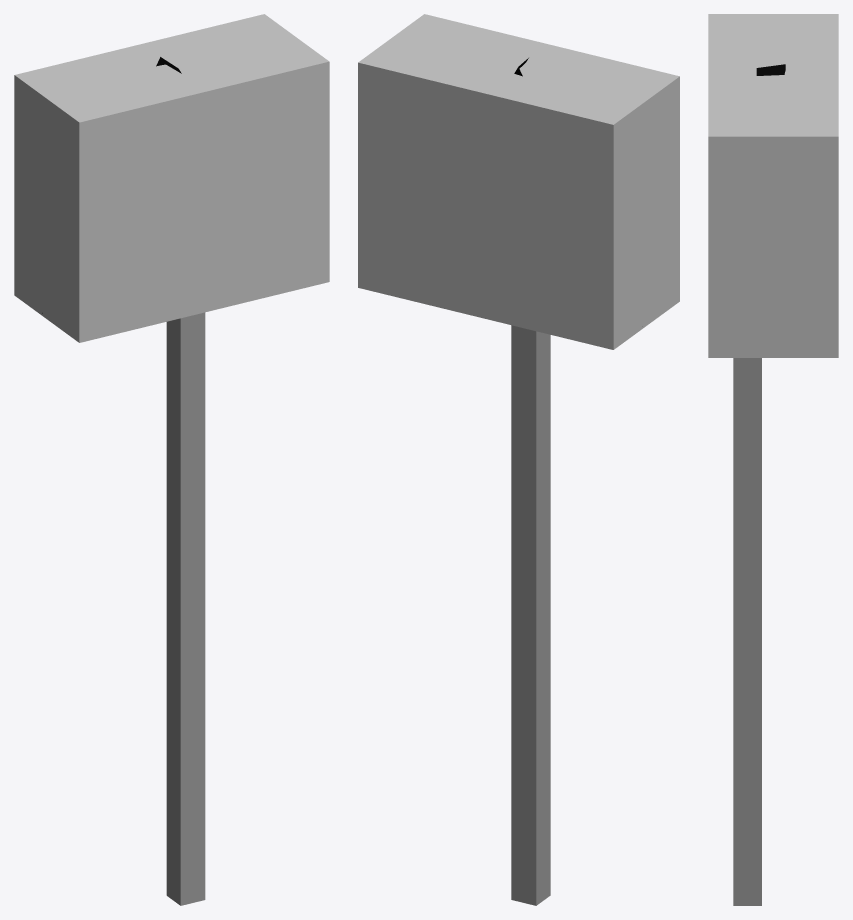
File: triangleSign.obj
The picture shows the model from 3 angles, left to right: view 1: azimuth 30°, elevation 25°; view 2: azimuth 150°, elevation 25°; view 3: azimuth 270°, elevation 25°; orthographic projection. The views are drawn at different scales.
Parts seen in each view (by area): view 1: Cube.002, Cube.001; view 2: Cube.002, Cube.001; view 3: Cube.002, Cube.001, Plane.001_Plane.004.
Boxes of the visible parts, x1,y1,x2,y2 form: Cube.002: [14, 14, 329, 342]; Cube.001: [166, 312, 205, 905]; Cube.002: [358, 14, 679, 349]; Cube.001: [511, 325, 550, 905]; Cube.002: [708, 14, 838, 357]; Cube.001: [733, 358, 761, 905]; Plane.001_Plane.004: [756, 64, 785, 75].
Size of the model in its own units: 2 by 6.33 by 0.9.
